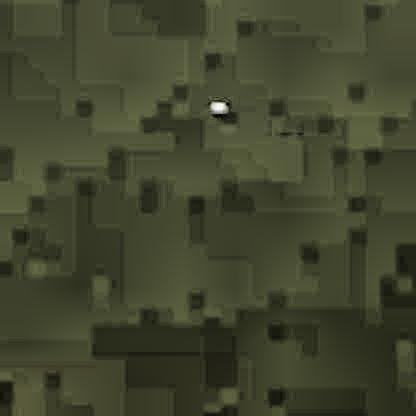golfball: (207, 98, 227, 115)
